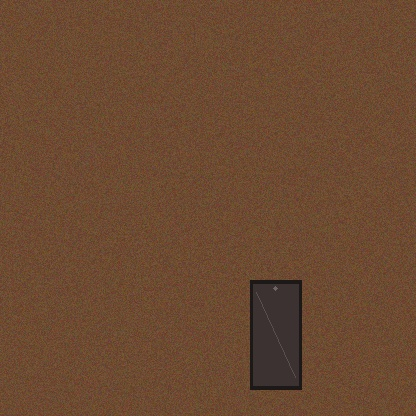cell_phone: (250, 280, 301, 389)
